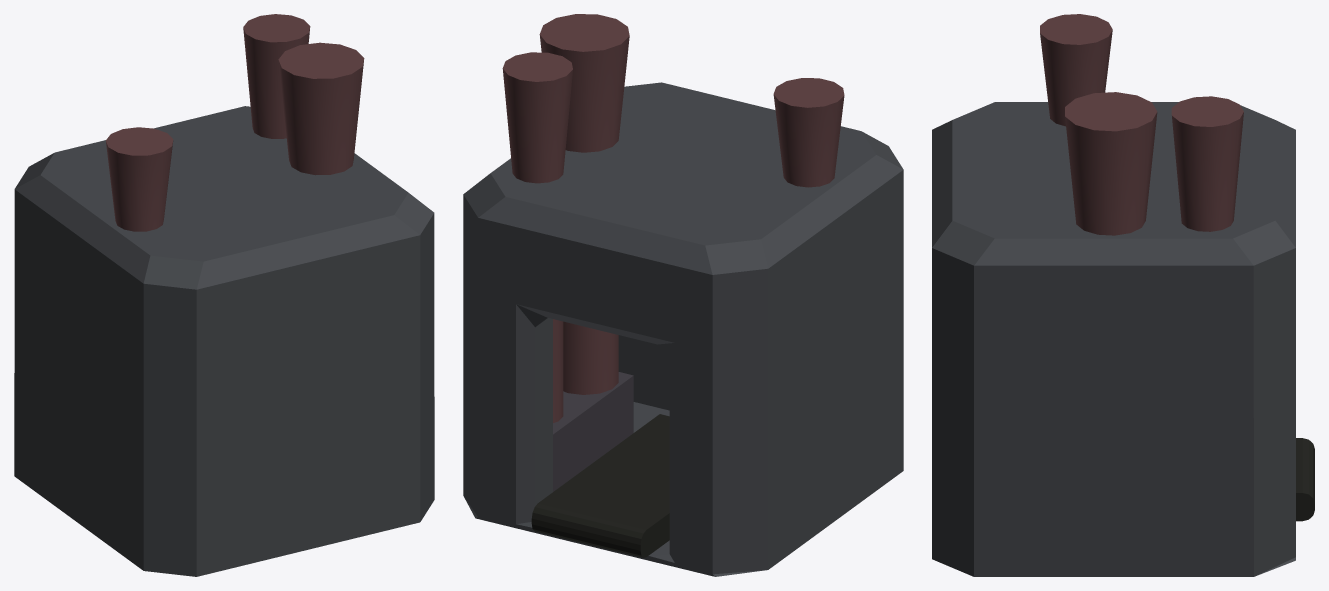
The model's file is Factory.fbx.
The picture shows the model from 3 angles, left to right: view 1: azimuth 30°, elevation 25°; view 2: azimuth 150°, elevation 25°; view 3: azimuth 270°, elevation 25°; orthographic projection. The views are drawn at different scales.
Visible parts, largest first — view 1: Factory.001; view 2: Factory.001; view 3: Factory.001.
Boxes of the visible parts, box(x1,y1,x2,y2) form: Factory.001: box(14, 14, 434, 576); Factory.001: box(463, 14, 903, 576); Factory.001: box(932, 14, 1314, 576).
Size of the model in its own units: 3.1 by 4.13 by 3.27.
